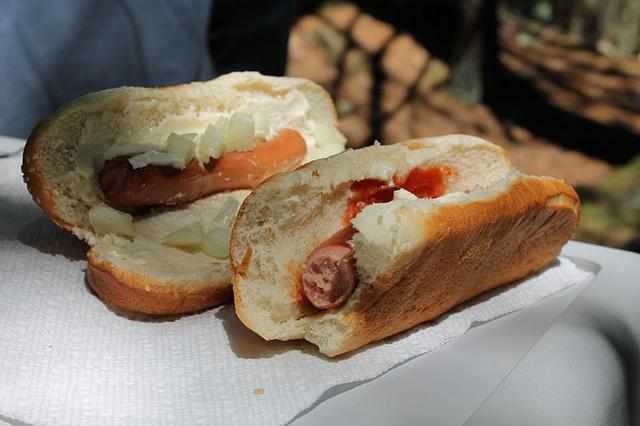onion: (89, 201, 140, 238), (100, 143, 162, 166), (128, 148, 186, 170), (227, 112, 256, 152), (196, 226, 232, 258), (164, 132, 197, 163), (198, 123, 226, 159), (162, 222, 203, 245), (210, 196, 240, 227), (248, 110, 270, 134), (213, 116, 230, 135)
